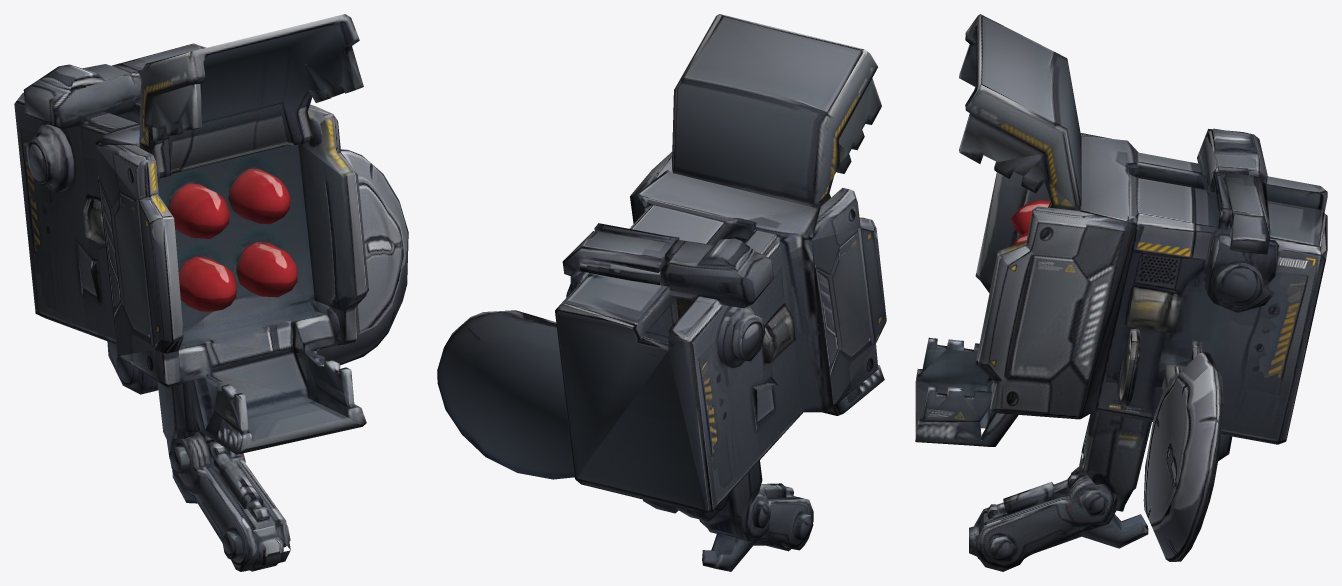
3 views of the same model, side by side, from view 1: azimuth 30°, elevation 25°; view 2: azimuth 150°, elevation 25°; view 3: azimuth 270°, elevation 25° (orthographic). The views are drawn at different scales.
Parts seen in each view (by area): view 1: gun; view 2: gun; view 3: gun.
Boxes of the visible parts, <box> form: gun: <box>14,14,408,571</box>; gun: <box>437,14,886,571</box>; gun: <box>915,14,1327,571</box>.
Bounding box in the file's own units: 0.8373 × 1.2 × 0.8725.
Materials: 1 (1 with a texture image).
